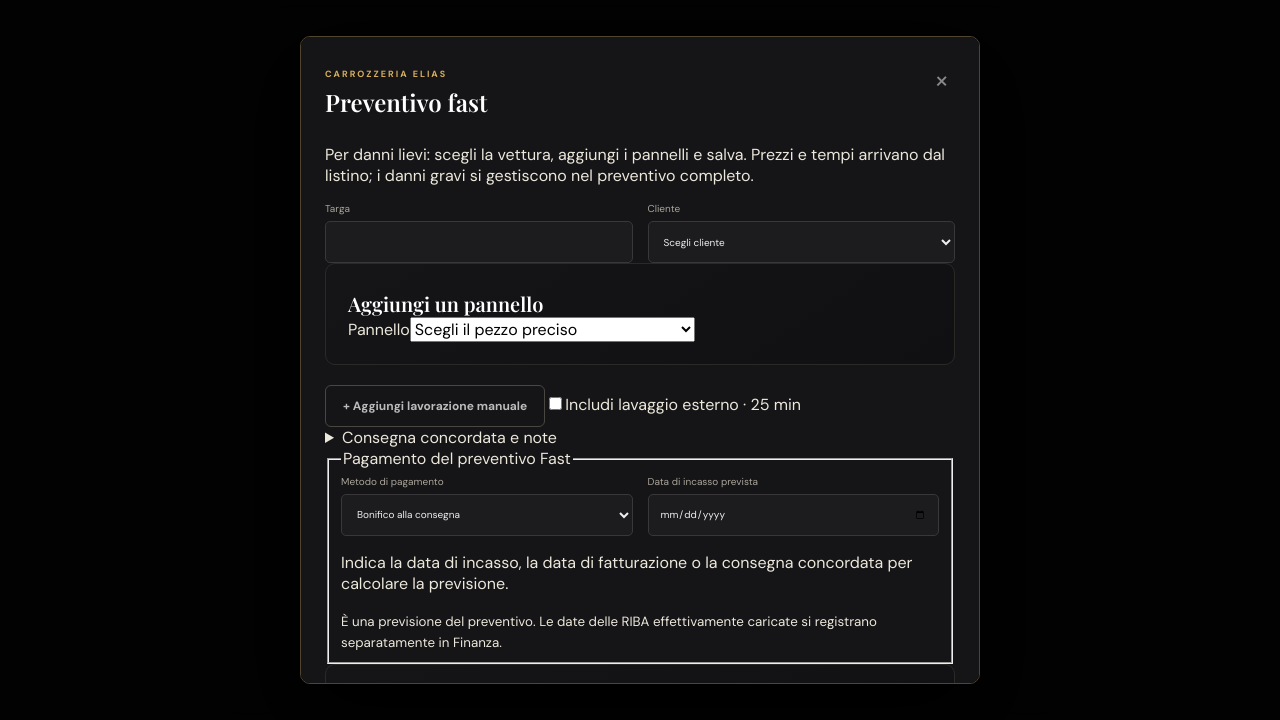
Test: percorso fast in ufficio › numero mancante impedisce apertura e salvataggio parziale
Step 1. Type "AB123CD" into the field labelled "Targa" → (479, 242), box x1=325 y1=221 x2=632 y2=263
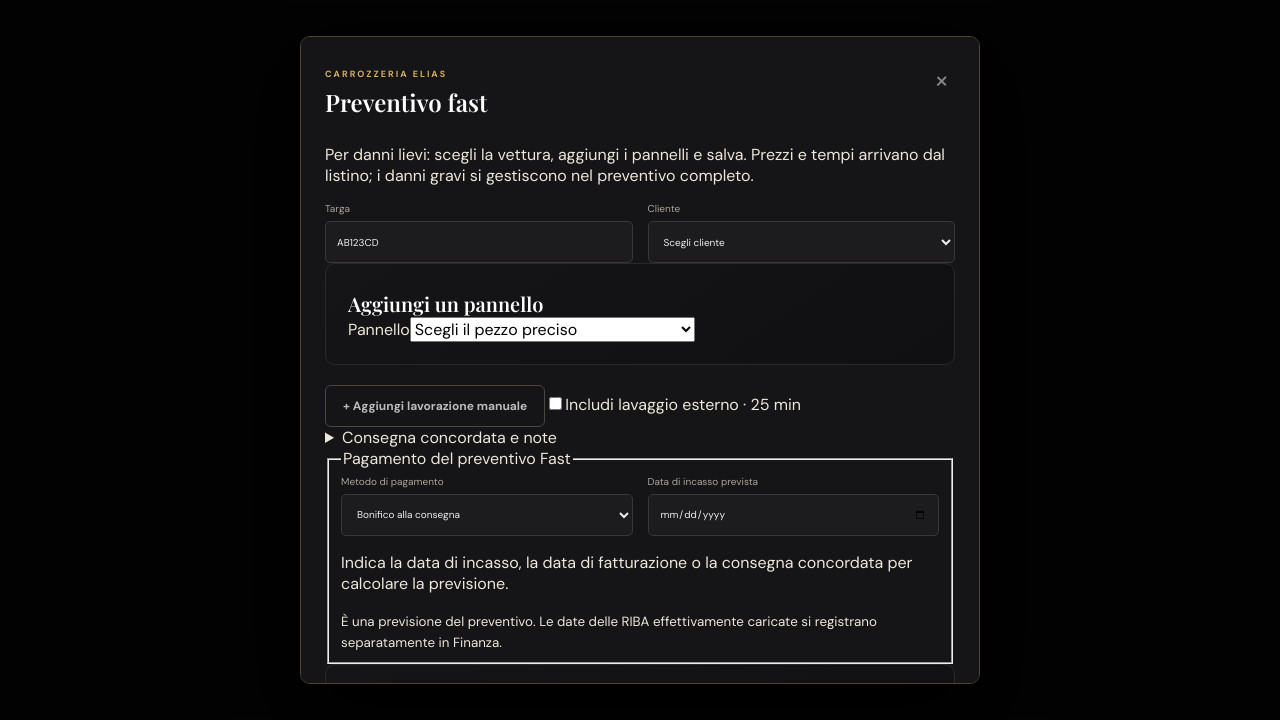
Step 2. Select "Mario Rossi" in the dropdown labelled "Cliente" → (801, 242), box x1=648 y1=221 x2=955 y2=263
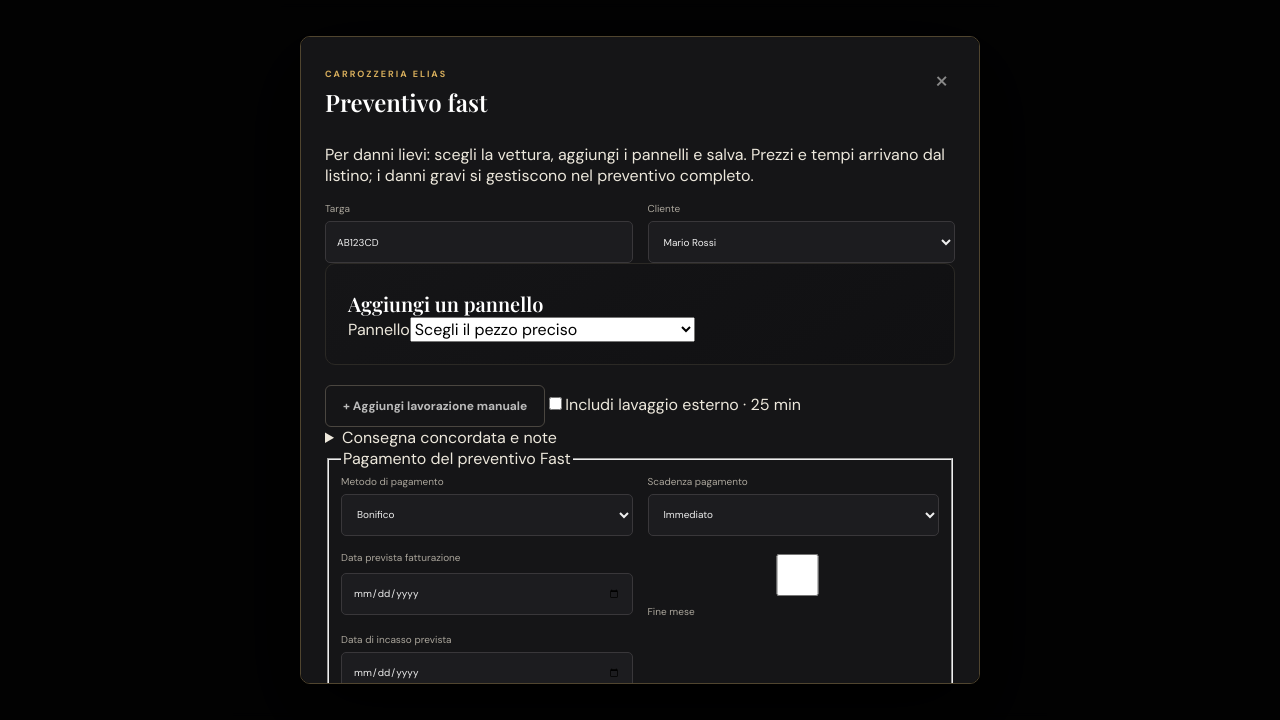
Step 3. Select "Porta anteriore SX" in the dropdown labelled "Pannello" → (552, 330), box x1=410 y1=317 x2=695 y2=342
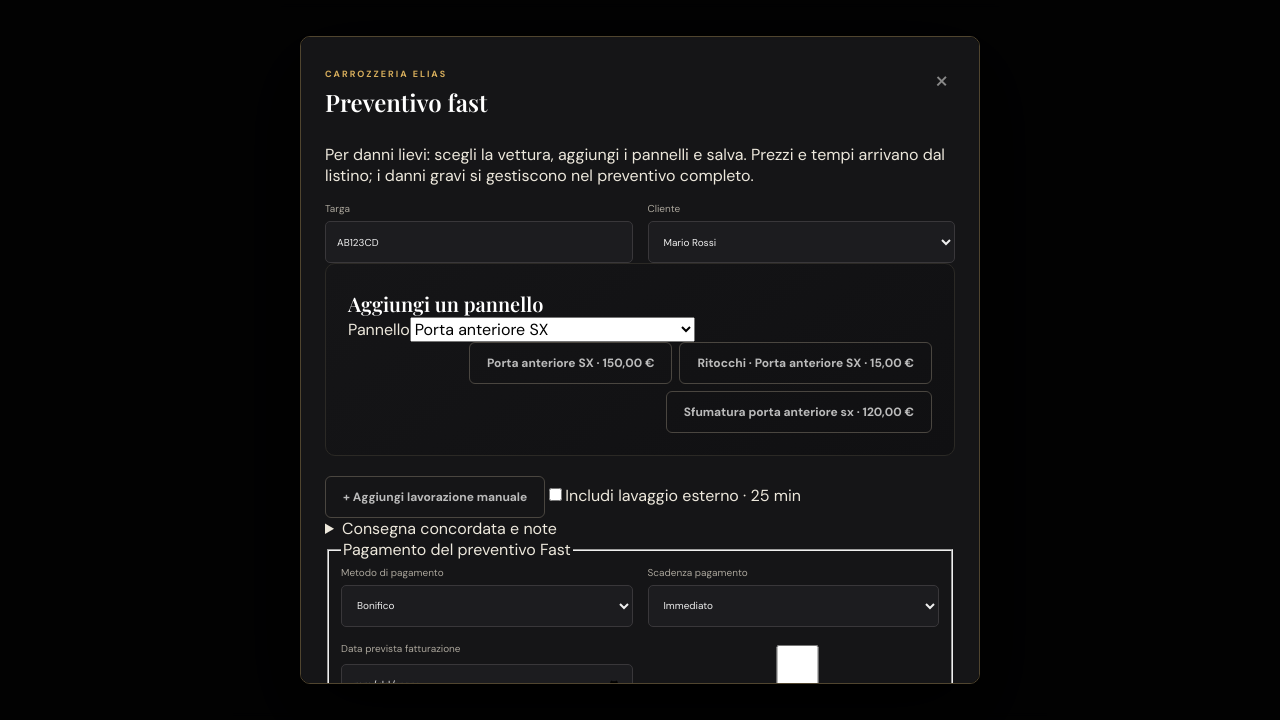
Step 4. Click the button "Porta anteriore SX · 150,00 €" → (571, 363), box x1=469 y1=342 x2=672 y2=384
(page scrolled)
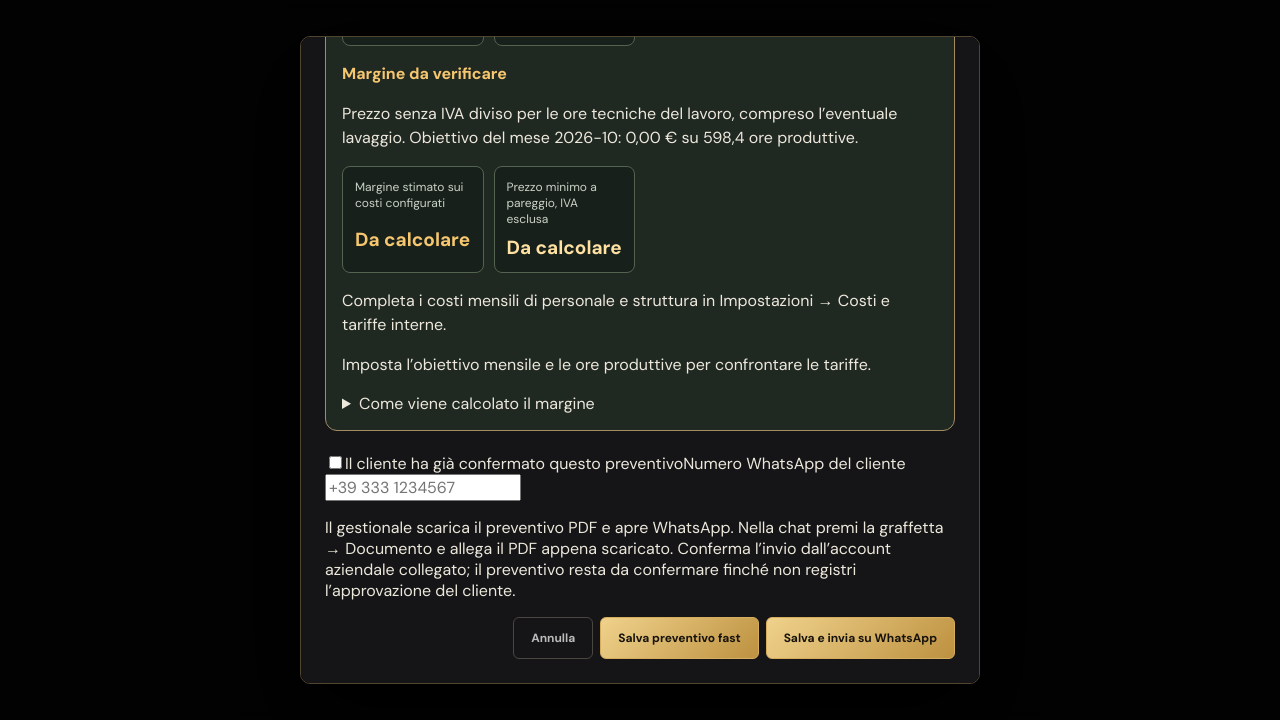
Step 5. Click the button "Salva e invia su WhatsApp" → (860, 638), box x1=766 y1=617 x2=955 y2=659
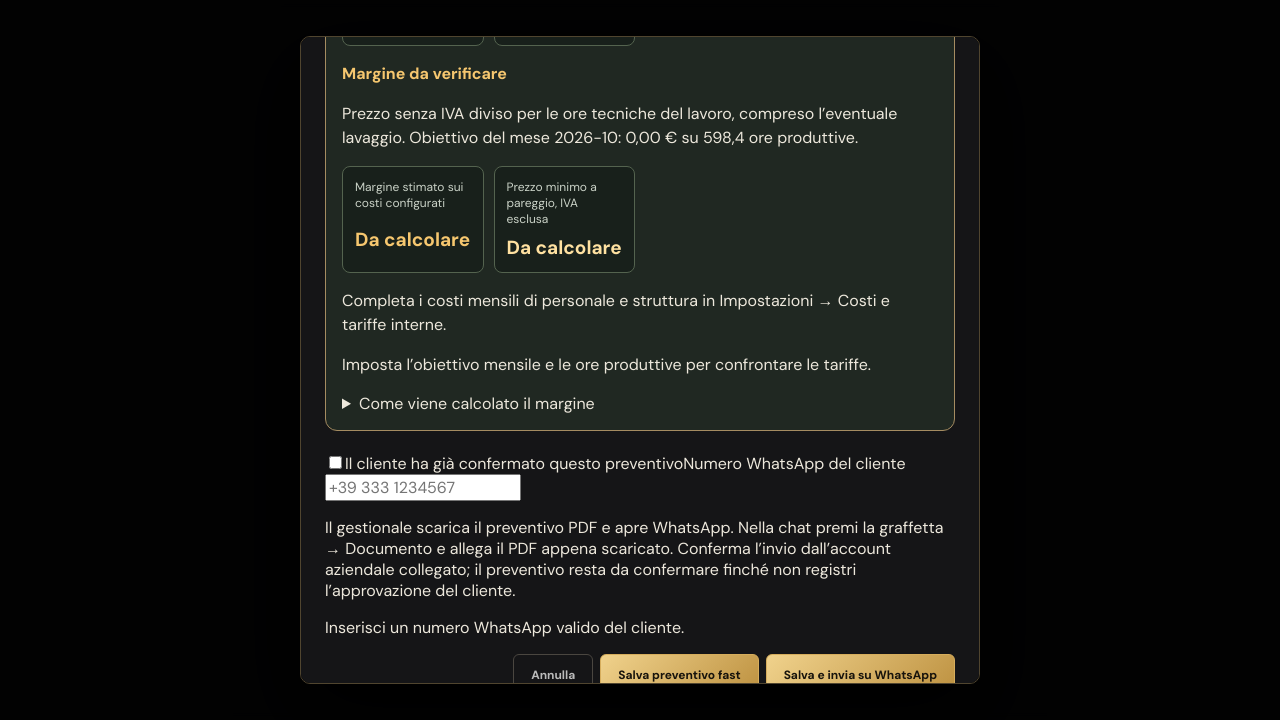
expect the message shows "numero WhatsApp valido": met, box x1=325 y1=617 x2=684 y2=638
